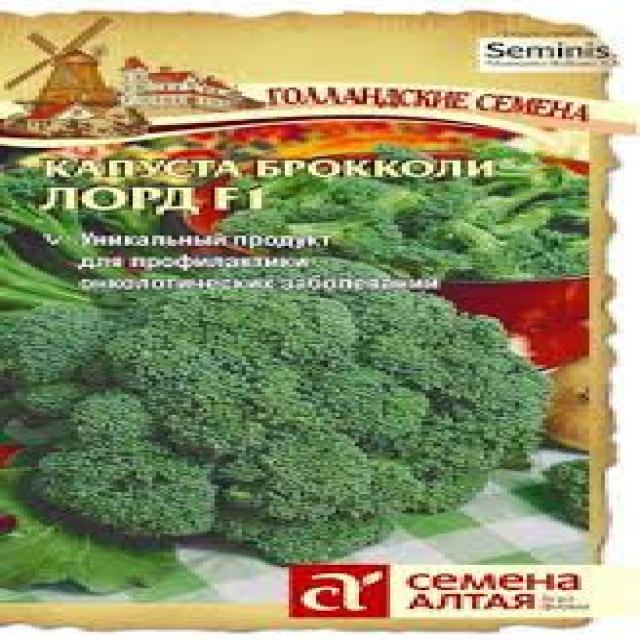broccoli: (4, 253, 520, 554)
